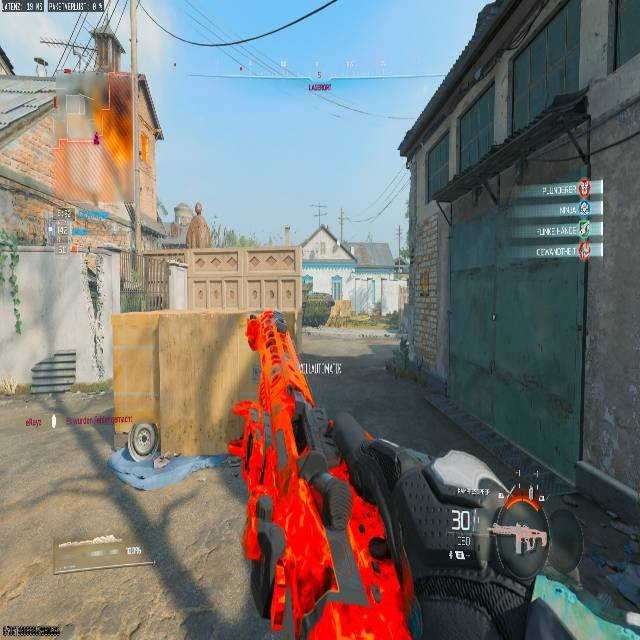head: (486, 499, 551, 576)
